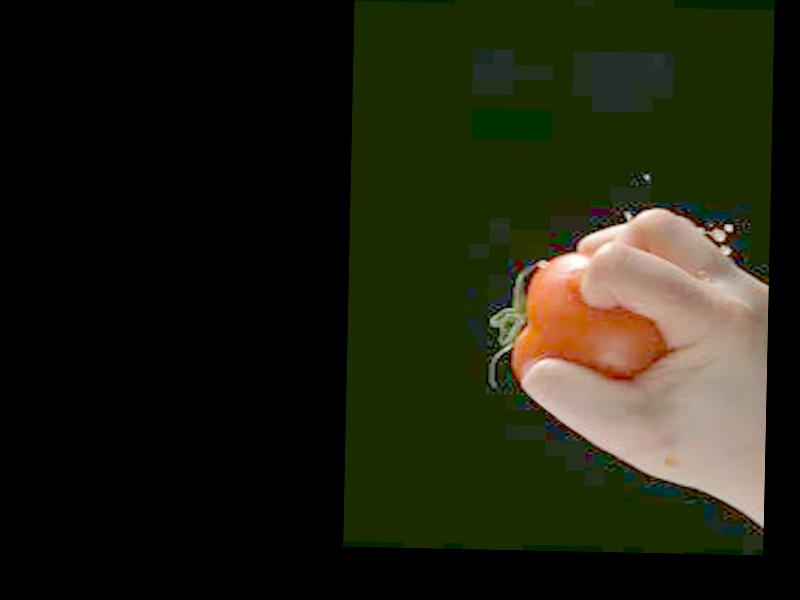Tomato: (512, 252, 667, 385)
